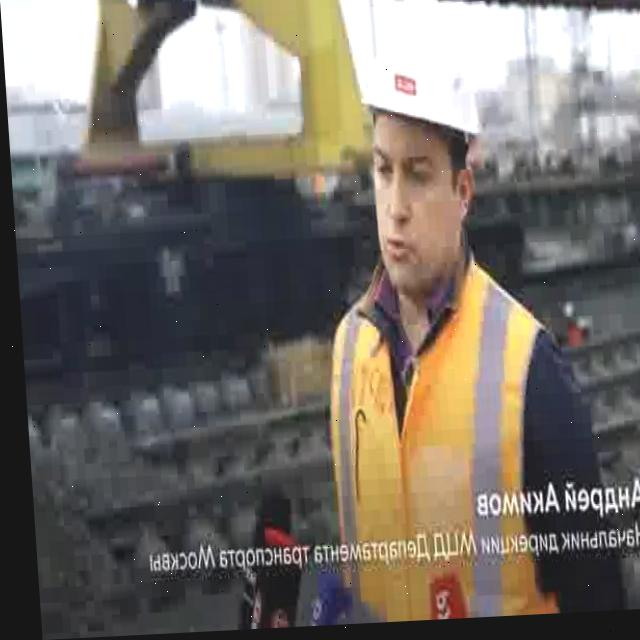Helmet: (358, 50, 482, 145)
Safety-Vest: (316, 259, 562, 628)
